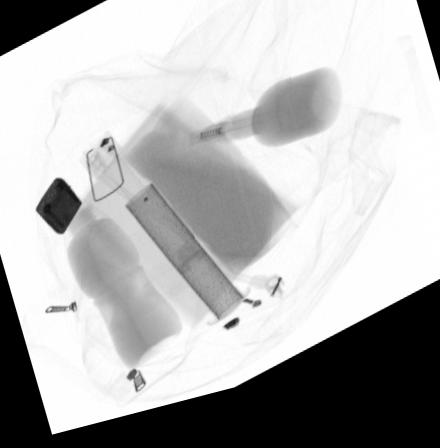Lighter: (34, 179, 83, 237)
